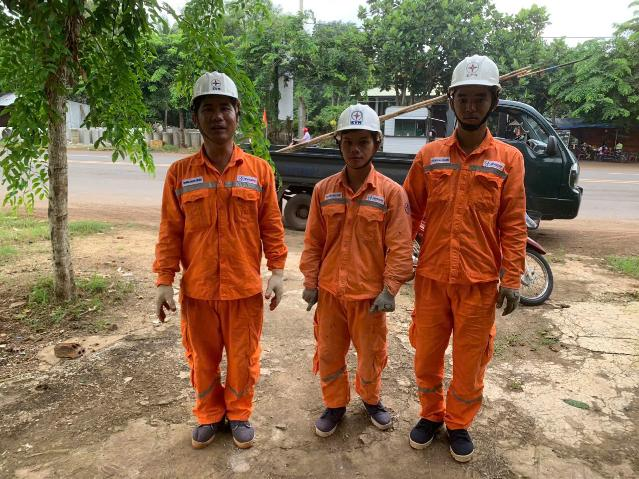gloves: (148, 284, 185, 328), (492, 280, 528, 319), (370, 284, 400, 321), (266, 269, 286, 315), (299, 277, 317, 318)
helmet: (437, 55, 513, 94), (189, 66, 248, 113), (334, 98, 388, 139)
shoes: (444, 416, 483, 471), (309, 393, 351, 442), (403, 406, 444, 453), (219, 410, 263, 453), (360, 395, 401, 434), (191, 409, 233, 446)
